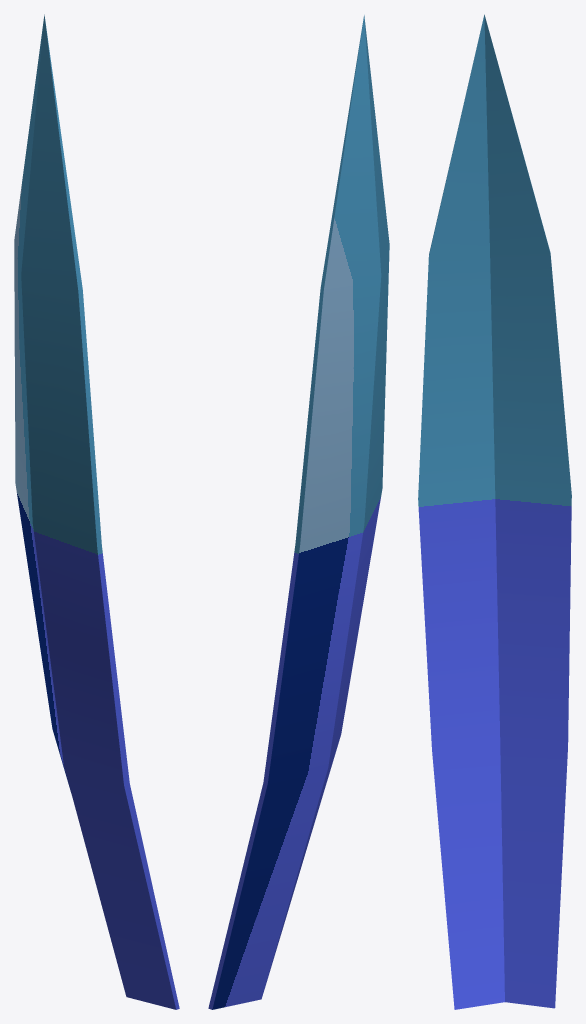
The model's file is mesh_forest_grass_03.fbx.
3 views of the same model, side by side, from view 1: azimuth 30°, elevation 25°; view 2: azimuth 150°, elevation 25°; view 3: azimuth 270°, elevation 25° (orthographic). The views are drawn at different scales.
Visible parts, largest first — view 1: mesh_forest_grass_03; view 2: mesh_forest_grass_03; view 3: mesh_forest_grass_03.
Boxes of the visible parts, x1=… form: mesh_forest_grass_03: x1=14, y1=14, x2=179, y2=1009; mesh_forest_grass_03: x1=208, y1=15, x2=389, y2=1009; mesh_forest_grass_03: x1=418, y1=14, x2=571, y2=1009.
Size of the model in its own units: 18.46 by 127 by 18.81.
